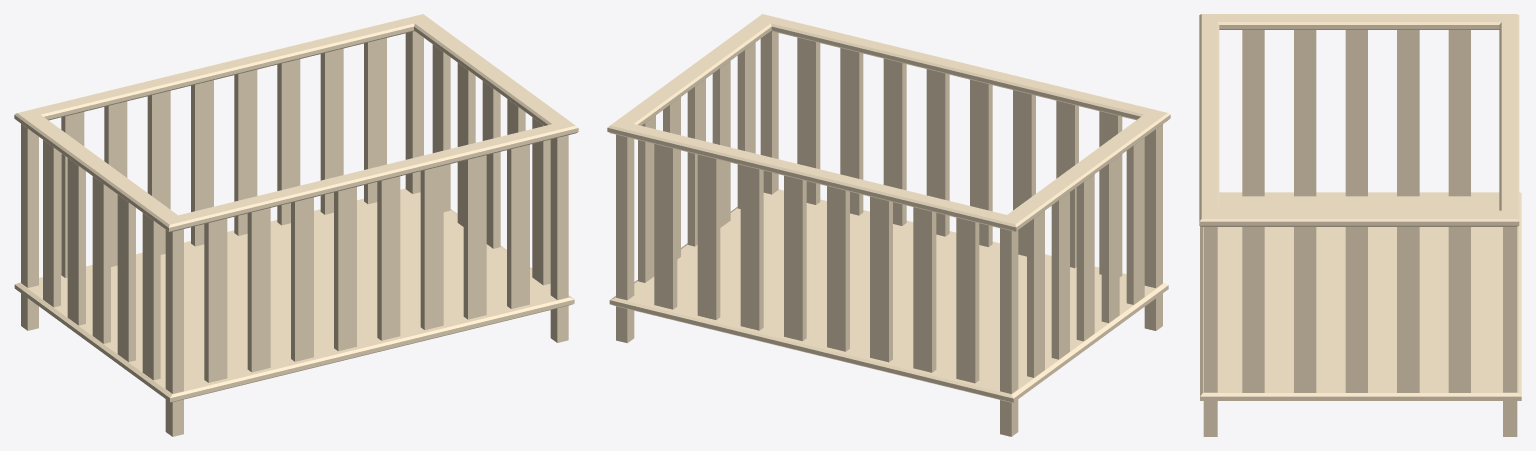
File: CribModel.fbx
The picture shows the model from 3 angles, left to right: view 1: azimuth 30°, elevation 25°; view 2: azimuth 150°, elevation 25°; view 3: azimuth 270°, elevation 25°; orthographic projection. The views are drawn at different scales.
Parts seen in each view (by area): view 1: Cube.056, pCube430; view 2: Cube.056, pCube430; view 3: Cube.056, pCube430.
Part boxes in pixels (x1,y1,x2,y2): Cube.056: (14, 31, 574, 436); pCube430: (14, 14, 578, 232); Cube.056: (609, 31, 1168, 436); pCube430: (607, 14, 1170, 231); Cube.056: (1200, 30, 1521, 436); pCube430: (1199, 14, 1519, 226).
Size of the model in its own units: 409 by 204 by 269.
